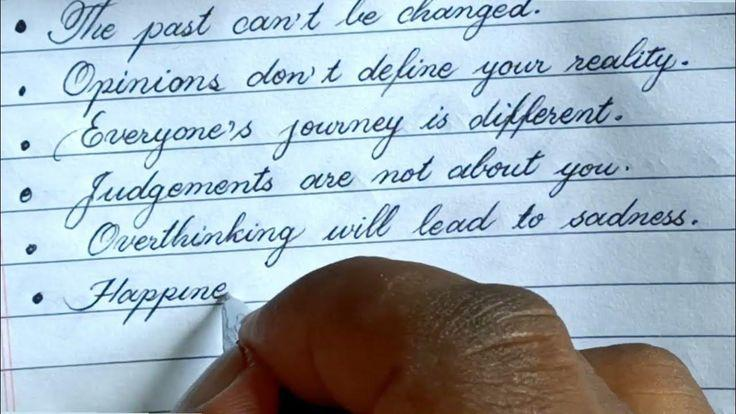text: (61, 31, 691, 119), (62, 143, 631, 232), (51, 89, 625, 171), (85, 195, 700, 268), (45, 0, 541, 66), (61, 274, 230, 327)
